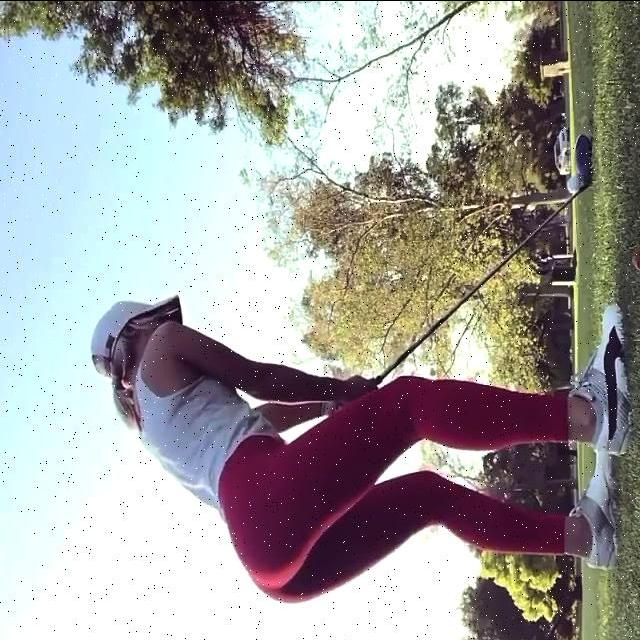golf ball: (567, 173, 580, 192)
golf club-handle: (373, 134, 591, 386)
golf club-head: (574, 133, 591, 187)
